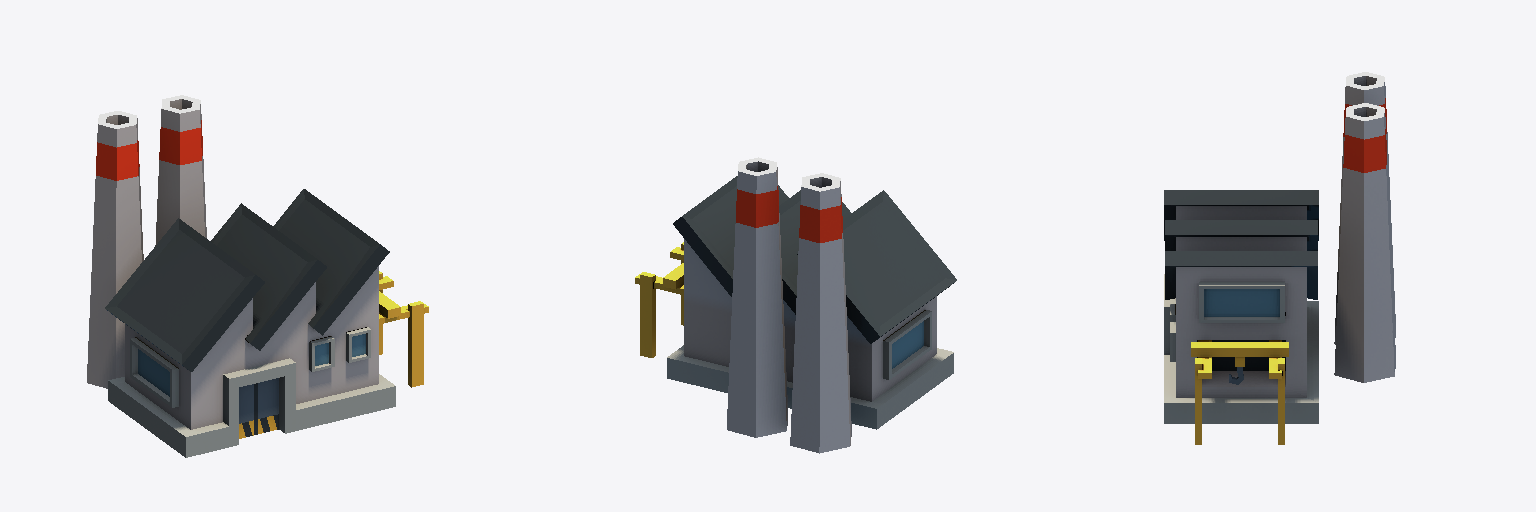
3 views of the same model, side by side, from view 1: azimuth 30°, elevation 25°; view 2: azimuth 150°, elevation 25°; view 3: azimuth 270°, elevation 25° (orthographic).
Visible parts, largest first — view 1: factory; view 2: factory; view 3: factory.
Part boxes in pixels (x1,y1,x2,y2): factory: (87,95,428,457); factory: (635,157,956,453); factory: (1164,72,1395,444).
Bounding box in the file's own units: 1.82 × 1.69 × 1.39.
1 materials, 1 textured.